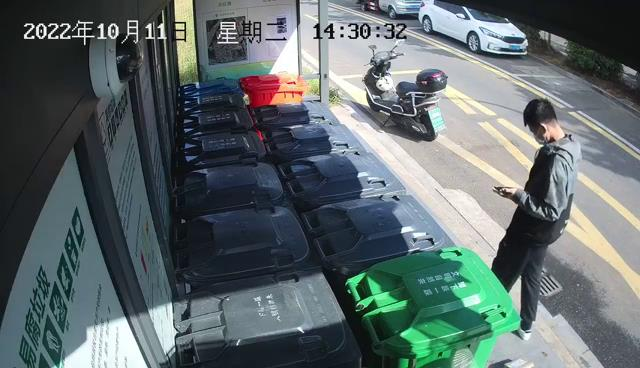person: (491, 97, 584, 343)
